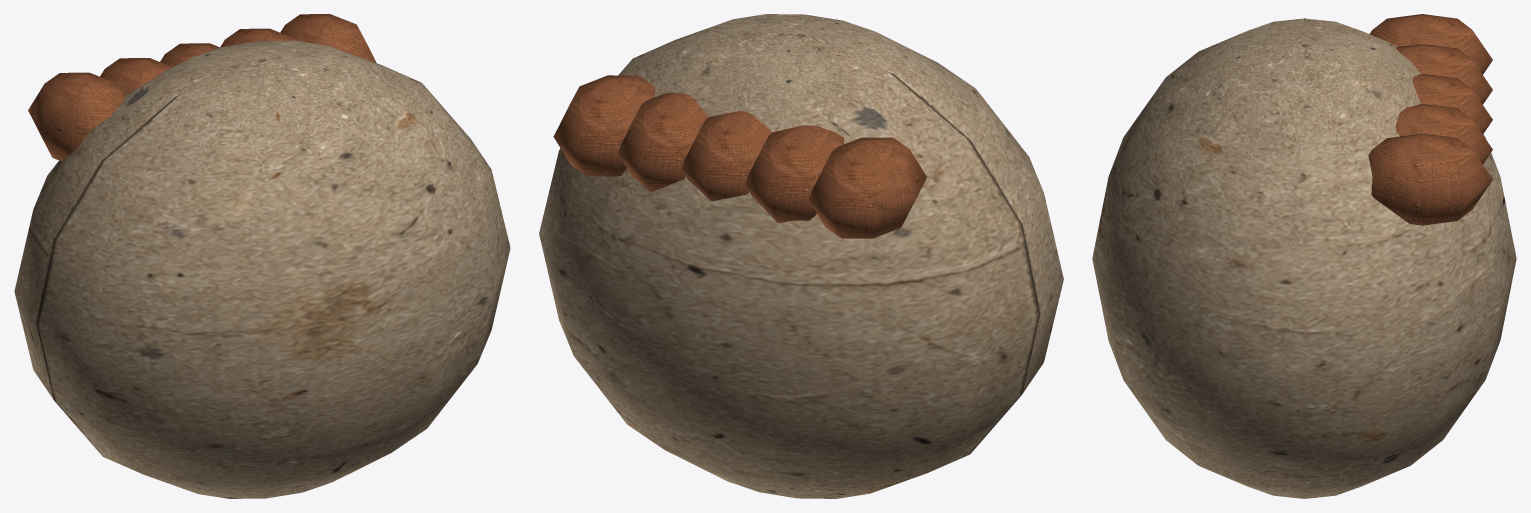
The model's file is ration.glb.
The picture shows the model from 3 angles, left to right: view 1: azimuth 30°, elevation 25°; view 2: azimuth 150°, elevation 25°; view 3: azimuth 270°, elevation 25°; orthographic projection. The views are drawn at different scales.
Visible parts, largest first — view 1: ration_mesh; view 2: ration_mesh; view 3: ration_mesh.
Part boxes in pixels (bbox=[...]): ration_mesh: bbox=[14, 14, 510, 498]; ration_mesh: bbox=[539, 14, 1063, 498]; ration_mesh: bbox=[1092, 14, 1516, 498].
Size of the model in its own units: 0.09 by 0.08 by 0.072.
2 materials, 2 textured.
